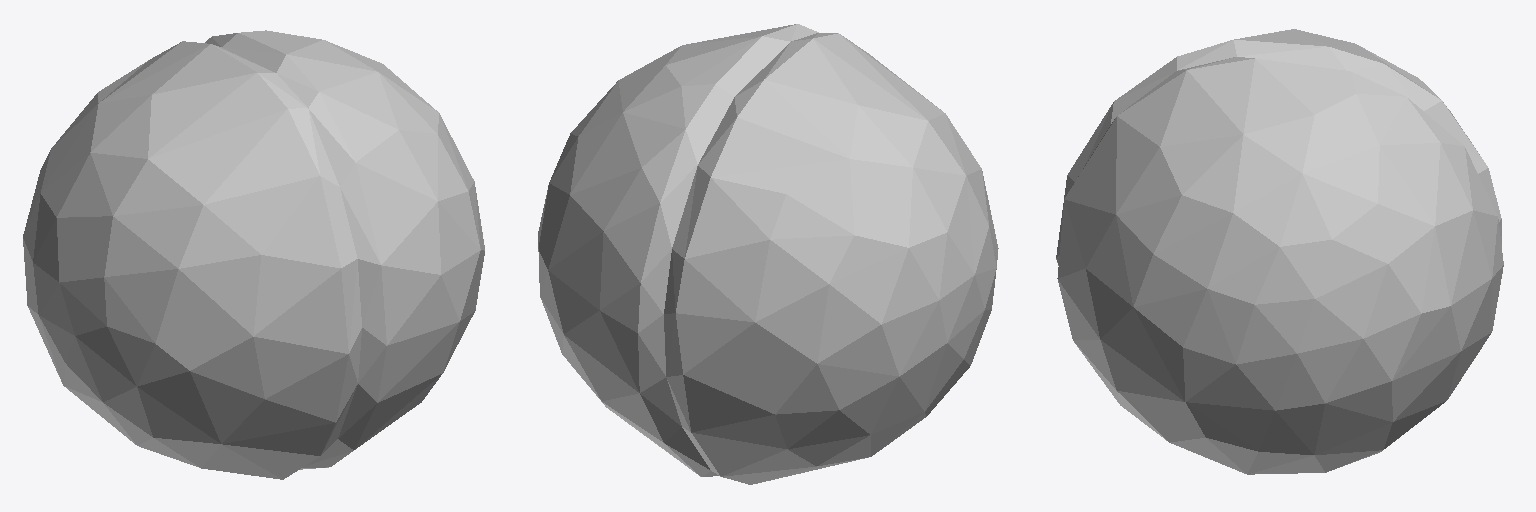
File: Peach.obj
The picture shows the model from 3 angles: view 1: azimuth 30°, elevation 25°; view 2: azimuth 150°, elevation 25°; view 3: azimuth 270°, elevation 25°; orthographic projection.
Visible parts, largest first — view 1: Peach; view 2: Peach; view 3: Peach.
Boxes of the visible parts, box(x1,y1,x2,y2) form: Peach: box(23, 30, 484, 479); Peach: box(538, 24, 998, 484); Peach: box(1056, 29, 1503, 474).
Bounding box in the file's own units: 0.8029 × 0.7847 × 0.7719.